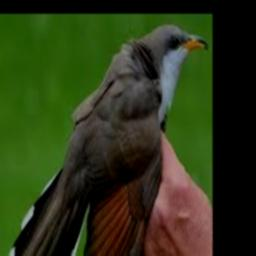Cuckoo: (5, 24, 208, 256)
